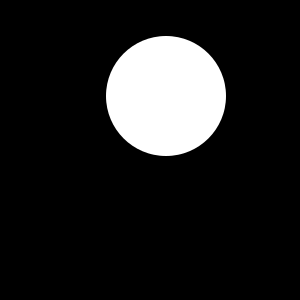rectangle: (106, 36, 226, 156)
